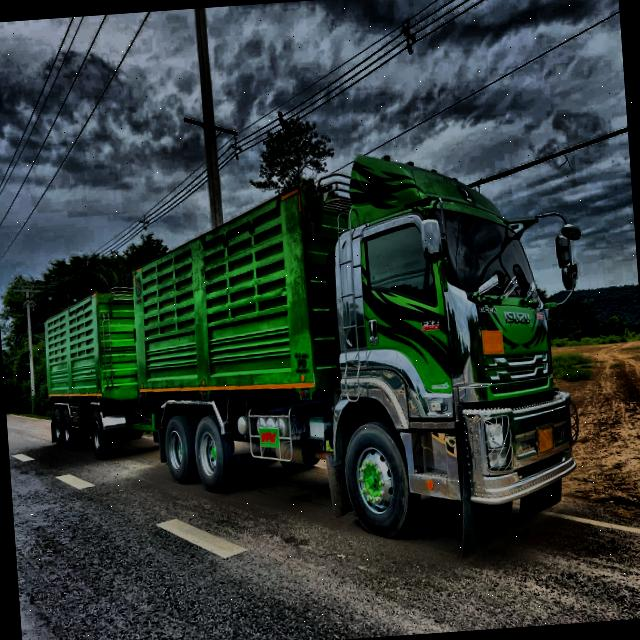trailer: (32, 139, 584, 560)
